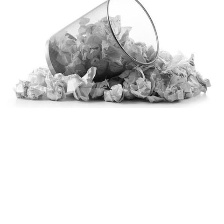book: (9, 12, 212, 109)
glass: (42, 0, 173, 83)
